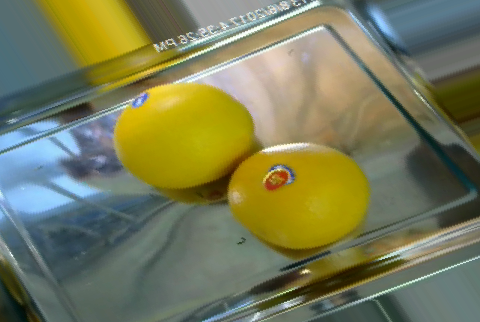Orange: (112, 81, 256, 188), (227, 142, 371, 249)
